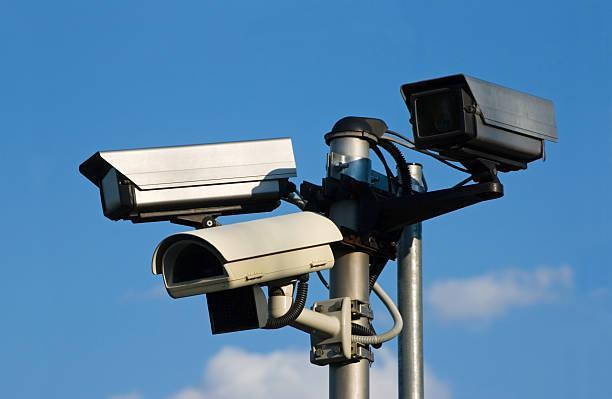camera: (382, 34, 576, 229), (62, 126, 306, 221), (135, 207, 375, 297)
